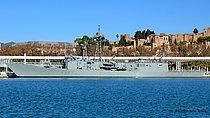MIL_Ship: (3, 24, 206, 78)
